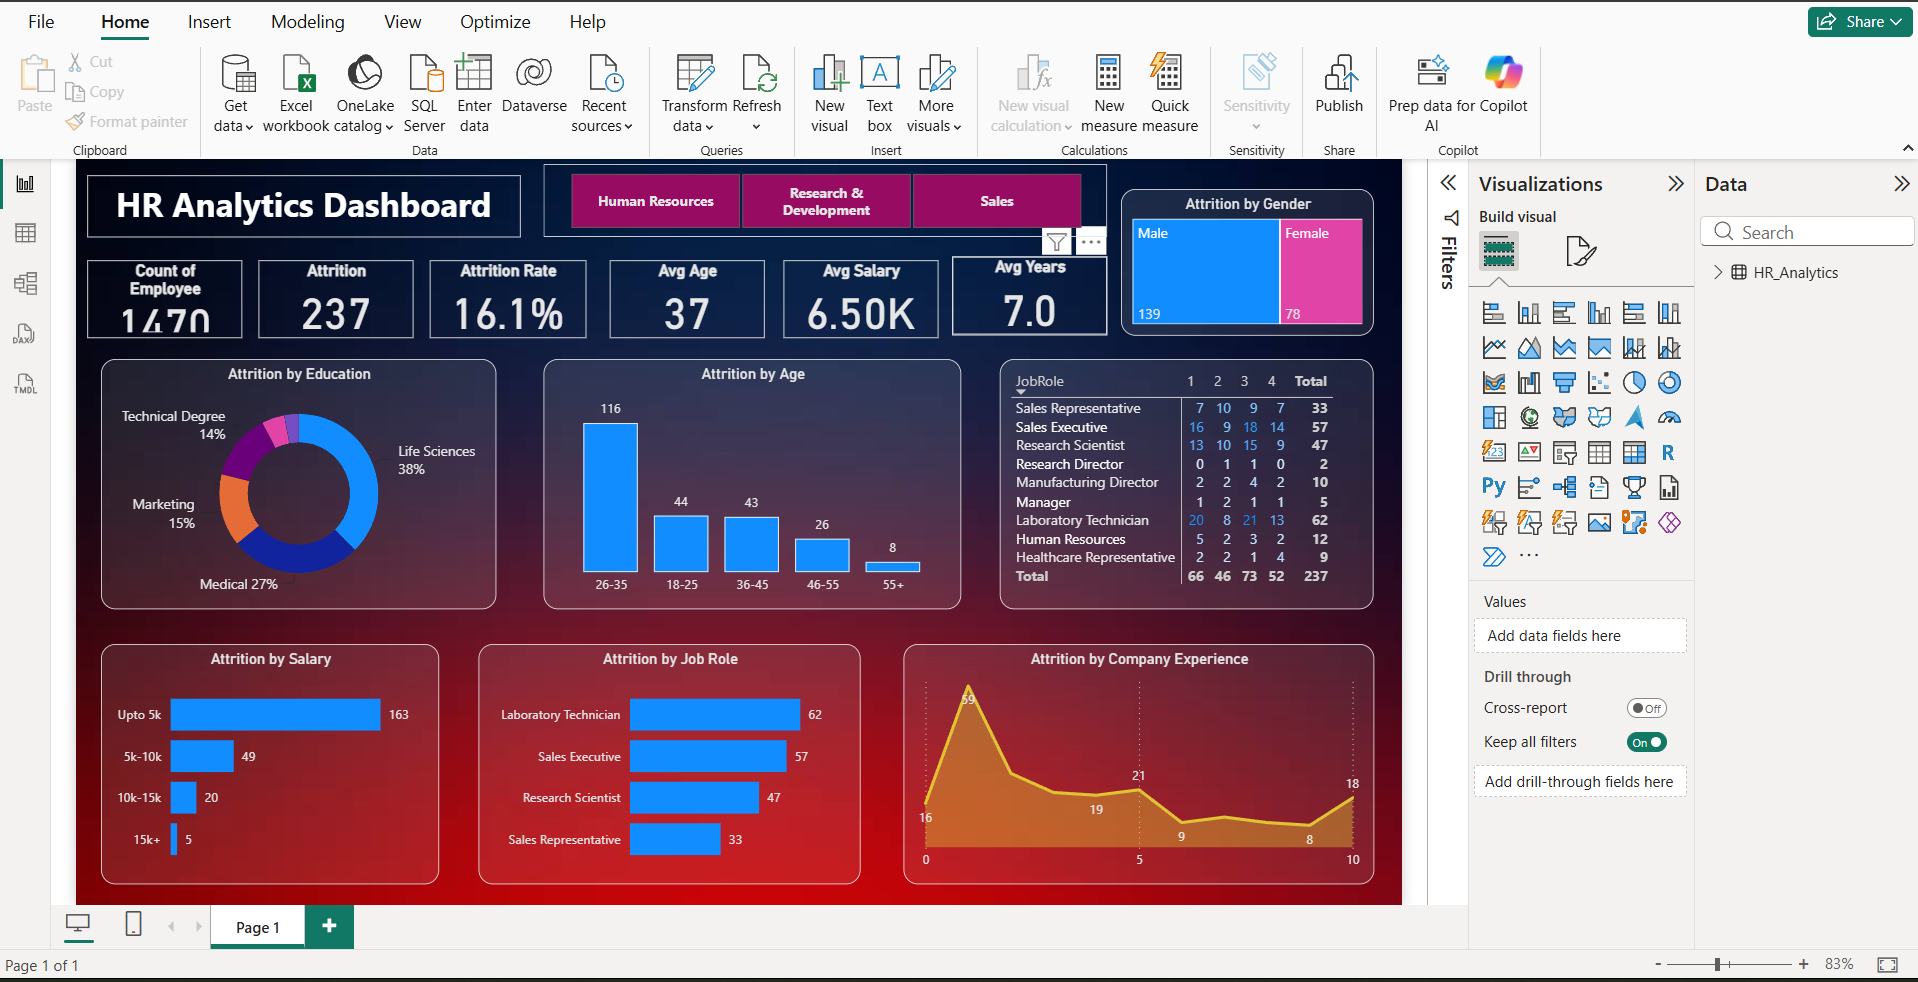

Layout of this report page (visuals, bound fields, positions):
{"tool":"powerbi","page":{"name":"Page 1","canvas":[1280,720],"ordinal":0},"visuals":[{"type":"card","title":"Count of Employee","fields":{"Values":["CountNonNull(HR_Analytics.EmpID)"]},"box":[11,97.4,149.6,75.5],"z":0},{"type":"card","title":"Attrition","fields":{"Values":["Sum(HR_Analytics.Attrition_Count)"]},"box":[175.6,97.4,149.6,75.5],"z":1000},{"type":"card","title":"Avg Salary","fields":{"Values":["Avg(HR_Analytics.MonthlyIncome)"]},"box":[683.4,97.4,149.6,75.5],"z":2000},{"type":"card","title":"Attrition Rate","fields":{"Values":["HR_Analytics.Attrition_Rate"]},"box":[341.7,97.4,150.9,75.5],"z":3000},{"type":"card","title":"Avg Age","fields":{"Values":["Avg(HR_Analytics.Age)"]},"box":[514.6,97.4,149.6,75.5],"z":4000},{"type":"card","title":"Avg Years","fields":{"Values":["Avg(HR_Analytics.YearsAtCompany)"]},"box":[845.3,94.7,149.6,75.5],"z":5000},{"type":"donutChart","title":"Attrition by Education","fields":{"Category":["HR_Analytics.EducationField"],"Y":["Sum(HR_Analytics.Attrition_Count)"]},"box":[24.7,193.5,381.5,241.5],"z":6000},{"type":"clusteredColumnChart","title":"Attrition by Age","fields":{"Category":["HR_Analytics.AgeGroup"],"Y":["Sum(HR_Analytics.Attrition_Count)"]},"box":[451.5,193.5,403.4,241.5],"z":7000},{"type":"pivotTable","fields":{"Rows":["HR_Analytics.JobRole"],"Columns":["HR_Analytics.JobSatisfaction"],"Values":["Sum(HR_Analytics.Attrition_Count)"]},"box":[891.9,193.5,360.9,241.5],"z":8000},{"type":"barChart","title":"Attrition by Salary ","fields":{"Category":["HR_Analytics.SalarySlab"],"Y":["Sum(HR_Analytics.Attrition_Count)"]},"box":[24.7,467.9,326.6,231.9],"z":9000},{"type":"barChart","title":"Attrition by Job Role","fields":{"Category":["HR_Analytics.JobRole"],"Y":["Sum(HR_Analytics.Attrition_Count)"]},"box":[388.3,467.9,369.1,231.9],"z":10000},{"type":"areaChart","title":"Attrition by Company Experience","fields":{"Category":["HR_Analytics.YearsAtCompany"],"Y":["Sum(HR_Analytics.Attrition_Count)"]},"box":[798.6,467.9,454.2,231.9],"z":11000},{"type":"treemap","title":"Attrition by Gender","fields":{"Group":["HR_Analytics.Gender"],"Values":["Sum(HR_Analytics.Attrition_Count)"]},"box":[1008.6,28.8,244.3,141.3],"z":12000},{"type":"slicer","fields":{"Values":["HR_Analytics.Department"]},"box":[451,5,544,70],"z":13000},{"type":"textbox","box":[11,15.1,418.5,60.4],"z":14000}]}

Visuals, with their boxes on the page's 1280x720 design canvas (x1, y1, x2, y2). These are canvas units, not pixel positions in the 1918x982 screenshot, which may show the page scaled, cropped or inside an application window:
"Count of Employee" card: BBox(11, 97, 161, 173)
"Attrition" card: BBox(176, 97, 325, 173)
"Avg Salary" card: BBox(683, 97, 833, 173)
"Attrition Rate" card: BBox(342, 97, 493, 173)
"Avg Age" card: BBox(515, 97, 664, 173)
"Avg Years" card: BBox(845, 95, 995, 170)
"Attrition by Education" donutChart: BBox(25, 194, 406, 435)
"Attrition by Age" clusteredColumnChart: BBox(452, 194, 855, 435)
pivotTable - HR_Analytics.JobRole x HR_Analytics.JobSatisfaction: BBox(892, 194, 1253, 435)
"Attrition by Salary " barChart: BBox(25, 468, 351, 700)
"Attrition by Job Role" barChart: BBox(388, 468, 757, 700)
"Attrition by Company Experience" areaChart: BBox(799, 468, 1253, 700)
"Attrition by Gender" treemap: BBox(1009, 29, 1253, 170)
slicer - HR_Analytics.Department: BBox(451, 5, 995, 75)
textbox: BBox(11, 15, 430, 76)
